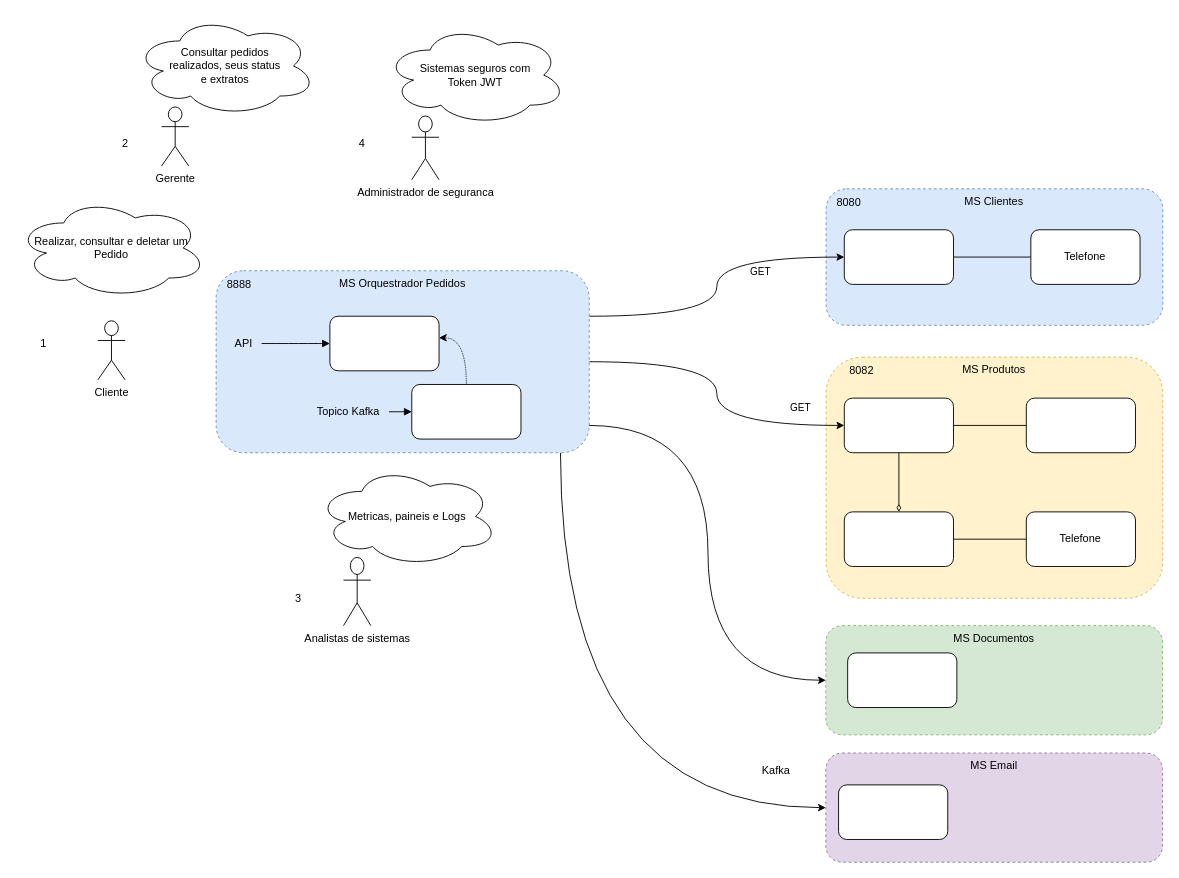
The diagram is 1179 pixels wide and 878 high, and some of its shapes have lost their labels. The centre of each missing label's shape, as x and y in pixels:
"Categorias" belongs at (1080,425).
"Clientes" belongs at (898,256).
"Email" belongs at (893,811).
"Extrato Pedidos" belongs at (466,411).
"Fornecedores" belongs at (898,538).
"Gerar PDF" belongs at (902,680).
"Pedidos" belongs at (384,343).
"Produtos" belongs at (898,425).
